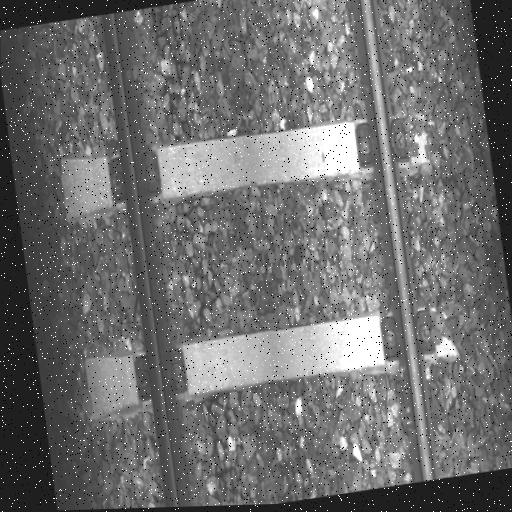clips: (378, 303, 436, 368), (354, 113, 411, 172), (132, 347, 188, 407), (107, 151, 162, 208)
sleepers: (83, 296, 465, 418), (60, 102, 444, 223)
